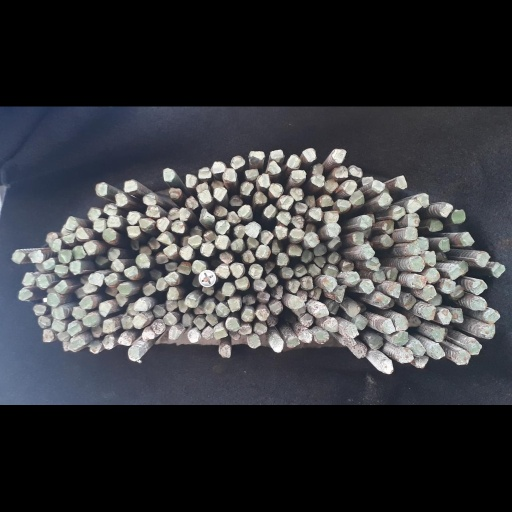dipstick: (245, 221, 261, 237), (411, 273, 427, 289), (248, 263, 263, 279), (215, 219, 230, 235), (255, 245, 271, 260), (304, 232, 320, 247), (331, 148, 347, 163), (409, 256, 425, 271), (425, 267, 440, 283), (333, 285, 347, 302), (135, 253, 150, 268), (102, 319, 117, 334), (191, 260, 206, 275), (230, 263, 245, 278), (200, 208, 215, 223), (197, 189, 212, 204), (286, 154, 301, 169), (314, 303, 329, 318), (393, 331, 408, 346), (485, 309, 500, 324), (83, 313, 99, 327), (288, 228, 304, 242), (290, 170, 306, 184), (72, 245, 86, 260), (225, 317, 239, 332), (215, 235, 230, 249), (269, 300, 283, 315), (308, 207, 323, 221), (303, 147, 317, 162), (348, 164, 363, 178), (342, 180, 357, 194), (326, 223, 341, 237), (360, 279, 374, 294), (380, 359, 394, 374), (369, 335, 383, 350), (365, 257, 380, 271), (392, 205, 406, 220), (438, 309, 452, 324), (472, 280, 487, 294), (68, 339, 84, 352), (164, 273, 180, 286), (345, 323, 358, 339), (382, 317, 395, 333), (432, 343, 445, 359), (403, 293, 416, 309), (477, 252, 490, 268), (67, 322, 81, 336), (128, 347, 142, 361), (215, 303, 229, 317), (215, 265, 229, 279), (213, 187, 227, 201), (231, 155, 245, 169), (267, 161, 281, 175), (279, 195, 293, 209), (290, 187, 304, 201), (324, 179, 338, 193), (323, 277, 337, 291), (399, 348, 413, 362), (378, 193, 392, 207), (451, 209, 465, 223), (35, 274, 48, 289), (76, 227, 89, 242), (123, 179, 138, 192), (230, 239, 245, 252), (185, 195, 198, 210), (287, 244, 302, 257), (336, 198, 351, 211), (319, 194, 334, 207), (324, 210, 339, 223), (347, 271, 360, 286), (361, 244, 374, 259), (471, 297, 486, 310), (87, 273, 103, 285), (313, 331, 329, 343), (424, 250, 435, 267), (11, 249, 24, 263), (29, 250, 43, 263), (44, 231, 57, 245), (46, 293, 59, 307), (103, 228, 116, 242), (126, 225, 140, 238), (123, 266, 137, 279), (171, 220, 185, 233), (163, 243, 177, 256), (104, 273, 117, 287), (150, 320, 163, 334), (163, 312, 177, 325), (247, 334, 260, 348), (179, 246, 193, 259), (238, 205, 252, 218), (223, 168, 236, 182), (275, 225, 288, 239), (263, 204, 276, 218), (254, 190, 267, 204), (257, 174, 270, 188), (270, 183, 283, 197), (277, 211, 291, 224), (310, 175, 324, 188), (334, 166, 348, 179), (351, 190, 364, 204), (324, 319, 338, 332), (395, 317, 408, 331), (382, 220, 395, 234), (371, 180, 385, 193), (423, 286, 436, 300), (407, 241, 420, 255), (404, 227, 417, 241), (407, 213, 420, 227), (407, 200, 421, 213), (440, 203, 453, 217), (461, 232, 474, 246), (451, 284, 464, 298), (468, 341, 481, 355), (456, 351, 470, 364), (162, 167, 174, 182), (139, 219, 154, 231), (117, 283, 132, 295), (87, 341, 102, 353), (213, 327, 228, 339), (285, 336, 300, 348), (270, 149, 285, 161), (360, 215, 372, 230), (301, 275, 313, 290), (324, 264, 339, 276), (414, 356, 429, 368), (423, 305, 435, 320), (493, 262, 505, 277), (483, 324, 495, 339), (157, 216, 168, 232), (272, 337, 283, 353), (248, 150, 264, 161), (51, 319, 64, 332), (51, 307, 64, 320), (54, 280, 67, 293), (107, 247, 120, 260), (115, 294, 128, 307), (133, 315, 146, 328), (169, 326, 182, 339), (178, 262, 191, 275), (200, 243, 213, 256), (241, 182, 254, 195), (299, 330, 312, 343), (294, 201, 307, 214), (328, 251, 341, 264), (295, 264, 308, 277), (281, 266, 294, 279), (355, 317, 368, 330), (450, 267, 463, 280), (442, 279, 455, 292), (18, 288, 32, 300), (58, 249, 70, 263), (84, 241, 96, 255), (107, 215, 121, 227), (157, 233, 171, 245), (142, 284, 156, 296), (118, 333, 132, 345), (102, 335, 114, 349), (223, 282, 235, 296), (241, 310, 255, 322), (256, 292, 270, 304), (198, 167, 212, 179), (260, 230, 272, 244), (301, 249, 313, 263), (313, 244, 327, 256), (328, 237, 342, 249), (351, 231, 363, 245), (347, 303, 359, 317), (432, 327, 444, 341), (380, 234, 394, 246), (395, 175, 407, 189), (428, 219, 442, 231), (452, 308, 464, 322), (145, 206, 160, 217), (71, 307, 86, 318), (185, 173, 196, 188), (289, 298, 304, 309), (390, 282, 401, 297), (95, 182, 107, 195), (115, 193, 127, 206), (111, 260, 124, 272), (80, 296, 93, 308), (120, 315, 132, 328), (165, 300, 178, 312), (167, 287, 179, 300), (228, 299, 241, 311), (255, 309, 268, 321), (235, 277, 247, 290), (243, 250, 255, 263), (253, 279, 266, 291), (203, 230, 216, 242), (214, 205, 227, 217), (211, 162, 224, 174), (300, 315, 313, 327), (266, 274, 278, 287), (292, 215, 304, 228), (288, 280, 300, 293), (373, 270, 385, 283), (32, 304, 46, 315), (54, 264, 68, 275), (69, 260, 80, 274), (66, 216, 77, 230), (142, 194, 156, 205), (168, 187, 182, 198), (135, 300, 149, 311), (142, 328, 153, 342), (203, 300, 214, 314), (219, 252, 233, 263), (188, 236, 202, 247), (229, 195, 243, 206), (328, 301, 339, 315), (387, 267, 398, 281), (418, 236, 429, 250), (439, 237, 450, 251), (419, 193, 429, 208), (88, 207, 100, 219), (127, 211, 139, 223), (187, 330, 199, 342), (310, 288, 322, 300), (355, 346, 367, 358), (22, 272, 33, 285), (94, 219, 105, 232), (103, 204, 116, 215), (83, 281, 96, 292), (99, 302, 110, 315), (153, 304, 164, 317), (219, 344, 230, 357), (254, 323, 267, 334), (234, 225, 245, 238), (245, 168, 258, 179), (341, 260, 354, 271), (412, 344, 425, 355), (408, 316, 421, 327), (377, 293, 390, 304), (195, 182, 209, 192), (273, 285, 283, 299), (265, 260, 275, 274), (43, 258, 54, 270), (38, 316, 50, 327), (42, 330, 53, 342), (228, 211, 240, 222), (277, 253, 288, 265), (312, 163, 323, 175), (309, 265, 321, 276), (180, 208, 190, 221), (127, 303, 137, 316), (202, 326, 212, 339), (242, 295, 255, 305), (246, 238, 259, 248), (459, 261, 469, 274), (188, 226, 202, 235), (168, 209, 179, 220), (315, 256, 326, 267), (431, 294, 442, 305), (149, 237, 159, 249), (202, 286, 214, 296), (182, 314, 191, 327), (271, 241, 280, 254), (211, 180, 225, 188), (185, 297, 196, 307), (194, 317, 204, 328), (206, 315, 217, 325), (62, 235, 74, 244), (95, 255, 107, 264), (156, 254, 168, 263), (164, 262, 176, 271), (156, 278, 165, 290), (192, 274, 200, 287), (307, 194, 315, 207), (343, 338, 356, 346), (61, 225, 71, 235), (267, 315, 276, 326), (295, 306, 306, 315), (298, 291, 307, 302), (436, 252, 447, 261), (52, 239, 60, 251), (239, 326, 251, 334), (305, 224, 317, 232), (361, 176, 373, 184), (75, 287, 84, 297), (92, 327, 101, 337), (216, 292, 225, 302), (150, 270, 161, 278), (57, 332, 69, 339), (179, 300, 186, 312), (36, 263, 44, 273), (140, 246, 150, 254), (230, 331, 240, 339), (181, 236, 189, 246), (193, 307, 203, 314)
